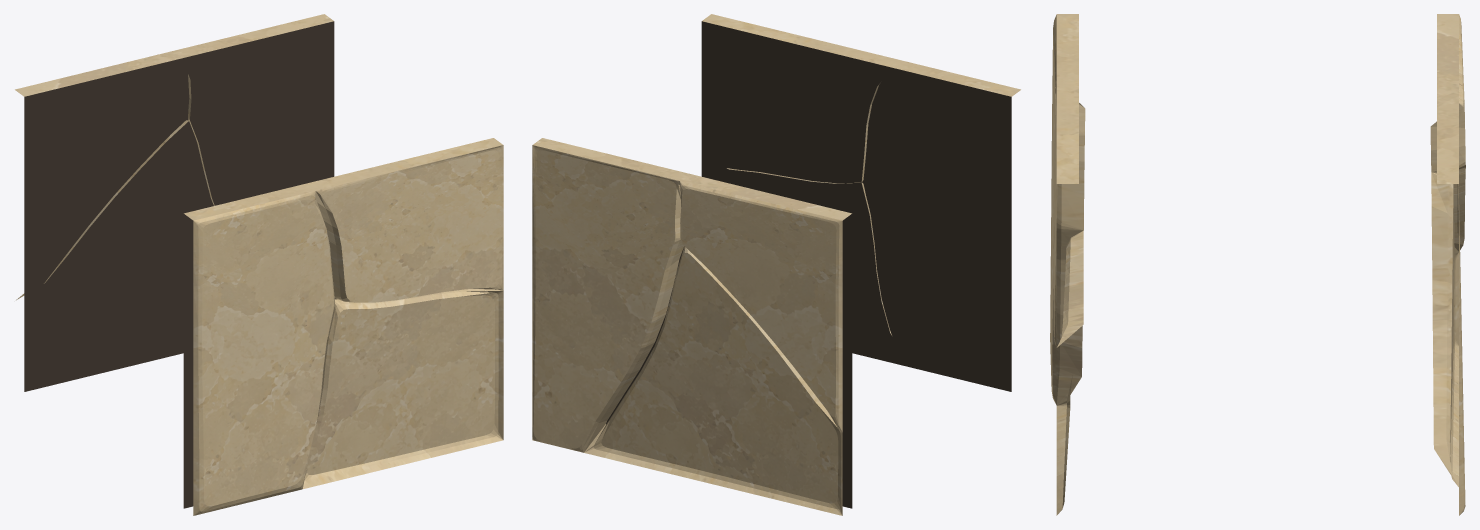
File: ground_strip_03.glb
3 renders of one model, left to right at view 1: azimuth 30°, elevation 25°; view 2: azimuth 150°, elevation 25°; view 3: azimuth 270°, elevation 25°, orthographic. The views are drawn at different scales.
Visible parts, largest first — view 1: GroundStrip03_Body; view 2: GroundStrip03_Body; view 3: GroundStrip03_Body.
Boxes of the visible parts, box(x1,y1,x2,y2) form: GroundStrip03_Body: box(15, 14, 503, 515); GroundStrip03_Body: box(532, 14, 1020, 515); GroundStrip03_Body: box(1050, 14, 1465, 515).
Bounding box in the file's own units: 1 × 0.91 × 1.03.
8 materials, 7 textured.
